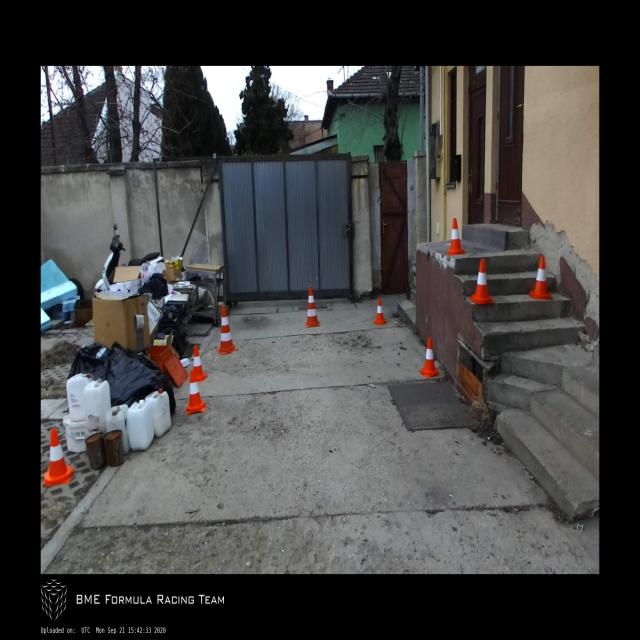large_orange_cone: (216, 305, 238, 354), (305, 286, 320, 328)
orange_cone: (44, 429, 74, 486), (469, 258, 494, 304), (529, 256, 552, 300), (186, 369, 206, 414), (419, 337, 440, 377), (188, 345, 208, 382), (448, 218, 465, 254), (373, 297, 387, 325)
